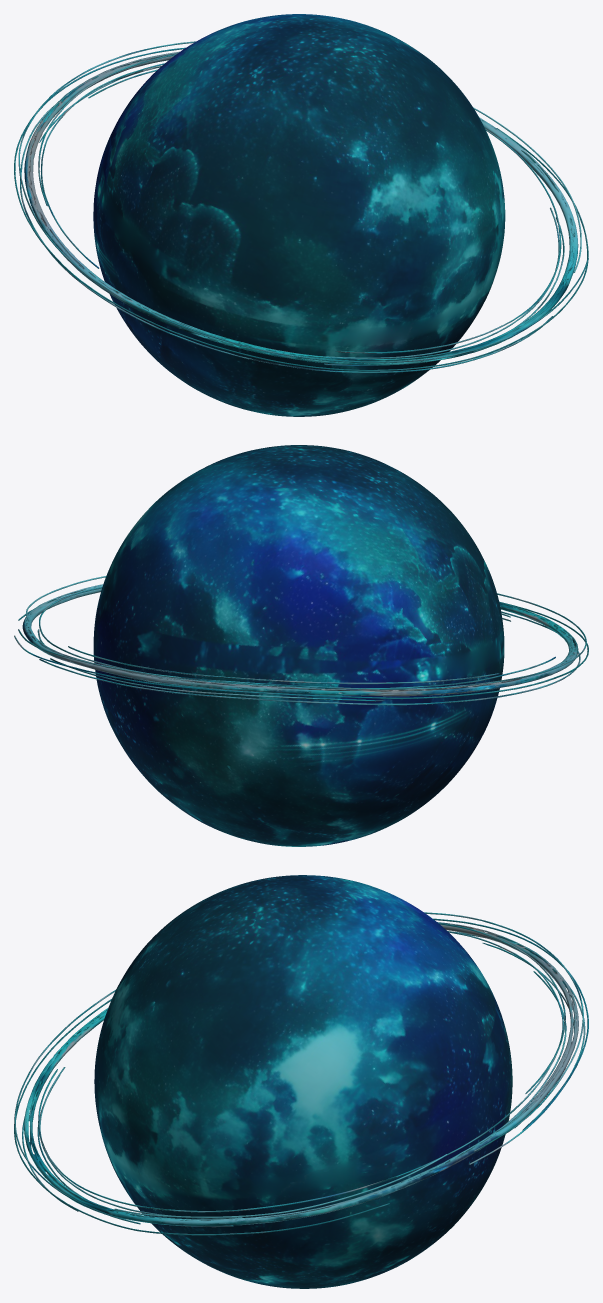
File: planet-c.glb
3 renders of one model, top to bottom at view 1: azimuth 30°, elevation 25°; view 2: azimuth 150°, elevation 25°; view 3: azimuth 270°, elevation 25°, orthographic. The views are drawn at different scales.
Parts seen in each view (by area): view 1: material; view 2: material; view 3: material.
Part boxes in pixels (box(x1,y1,x2,y2)): material: box(14, 14, 588, 416); material: box(14, 445, 588, 846); material: box(14, 875, 588, 1288).
Size of the model in its own units: 1.19 by 0.8219 by 1.15.
Materials: 1 (1 with a texture image).
